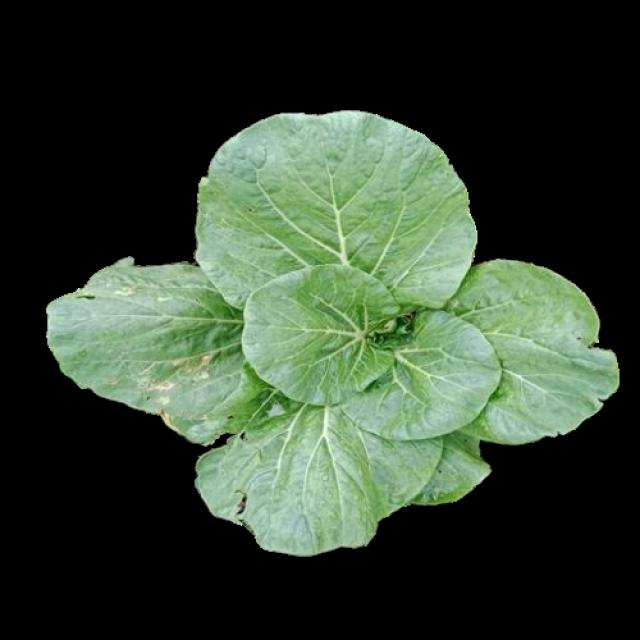mature: (51, 113, 622, 558)
unhealthy: (197, 115, 480, 319), (196, 396, 489, 554), (54, 258, 271, 446), (451, 264, 617, 443)
